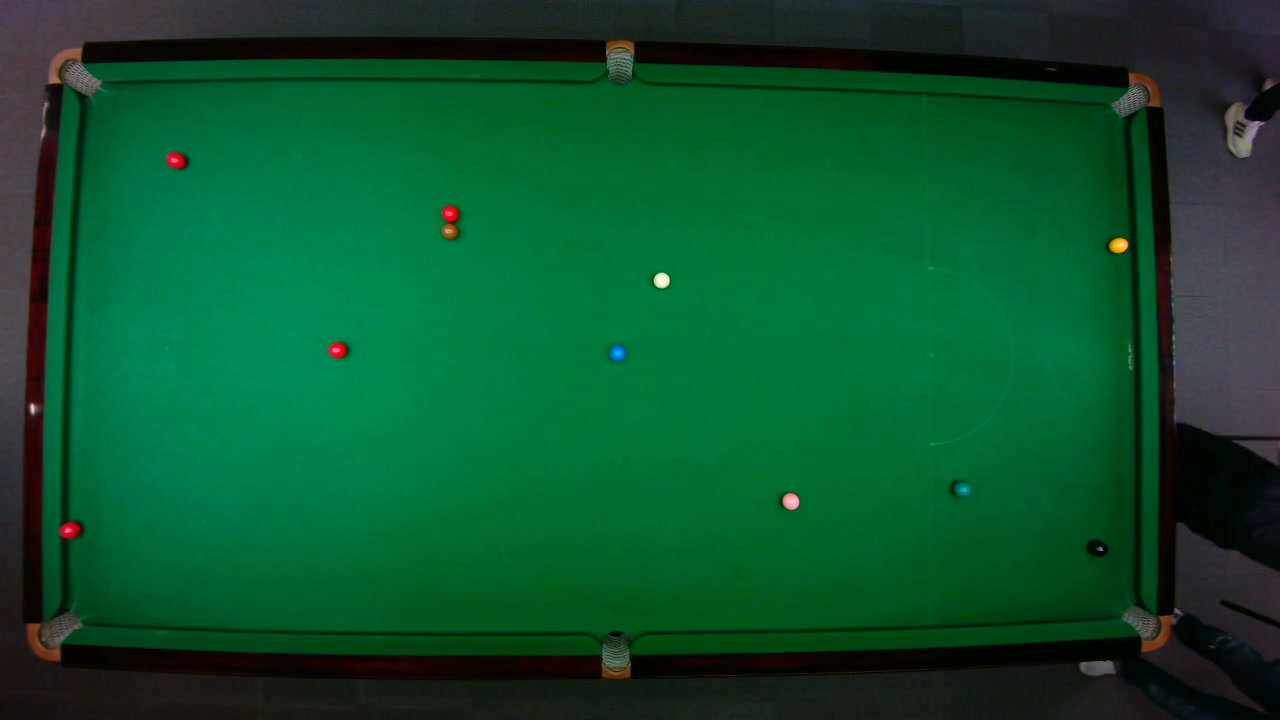bag: (25, 609, 84, 661), (45, 46, 102, 96), (1119, 602, 1171, 652), (1108, 71, 1161, 117), (600, 629, 630, 680), (605, 38, 633, 85)
black: (1087, 539, 1108, 557)
blue: (608, 344, 626, 361)
brown: (440, 223, 458, 239)
green: (950, 480, 971, 497)
pink: (780, 490, 800, 510)
red: (164, 150, 187, 169), (58, 520, 81, 539), (326, 340, 347, 359), (439, 204, 459, 222)
white: (651, 270, 670, 288)
yellow: (1107, 236, 1129, 253)
zone: (927, 266, 1013, 445)
